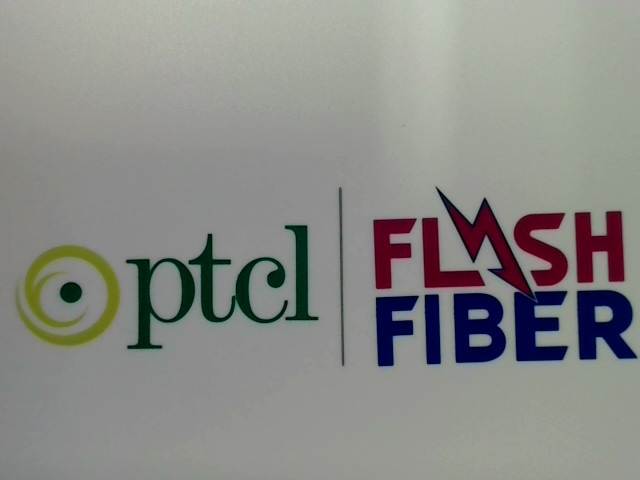BF_PTCL: (11, 208, 328, 357)
